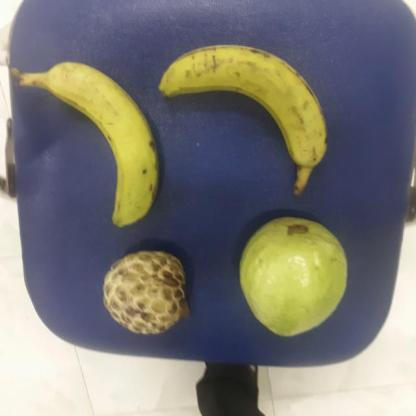annona: (104, 250, 196, 336)
banana: (160, 49, 336, 178), (46, 62, 165, 227)
guava: (241, 218, 356, 334), (104, 250, 194, 334)
